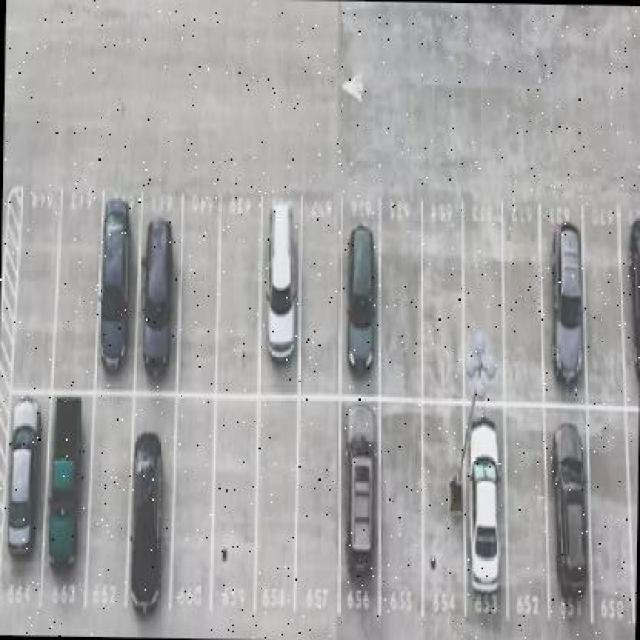Car: (263, 212, 300, 375), (469, 426, 500, 593), (138, 235, 173, 373), (348, 218, 377, 382), (346, 432, 378, 579), (555, 427, 584, 589), (7, 413, 40, 552), (52, 412, 83, 549), (136, 438, 161, 590), (106, 198, 129, 350)
Empty: (546, 218, 580, 375), (19, 210, 52, 370), (219, 221, 255, 361), (501, 429, 536, 555), (301, 444, 330, 589), (180, 446, 207, 600), (263, 452, 292, 595), (221, 440, 249, 584), (63, 227, 92, 364), (388, 232, 417, 367), (100, 439, 127, 578), (589, 240, 618, 369), (593, 449, 618, 596), (464, 243, 490, 380), (429, 444, 455, 572), (393, 440, 418, 571), (303, 244, 330, 360), (184, 223, 209, 344), (517, 237, 537, 374), (429, 243, 450, 346)
